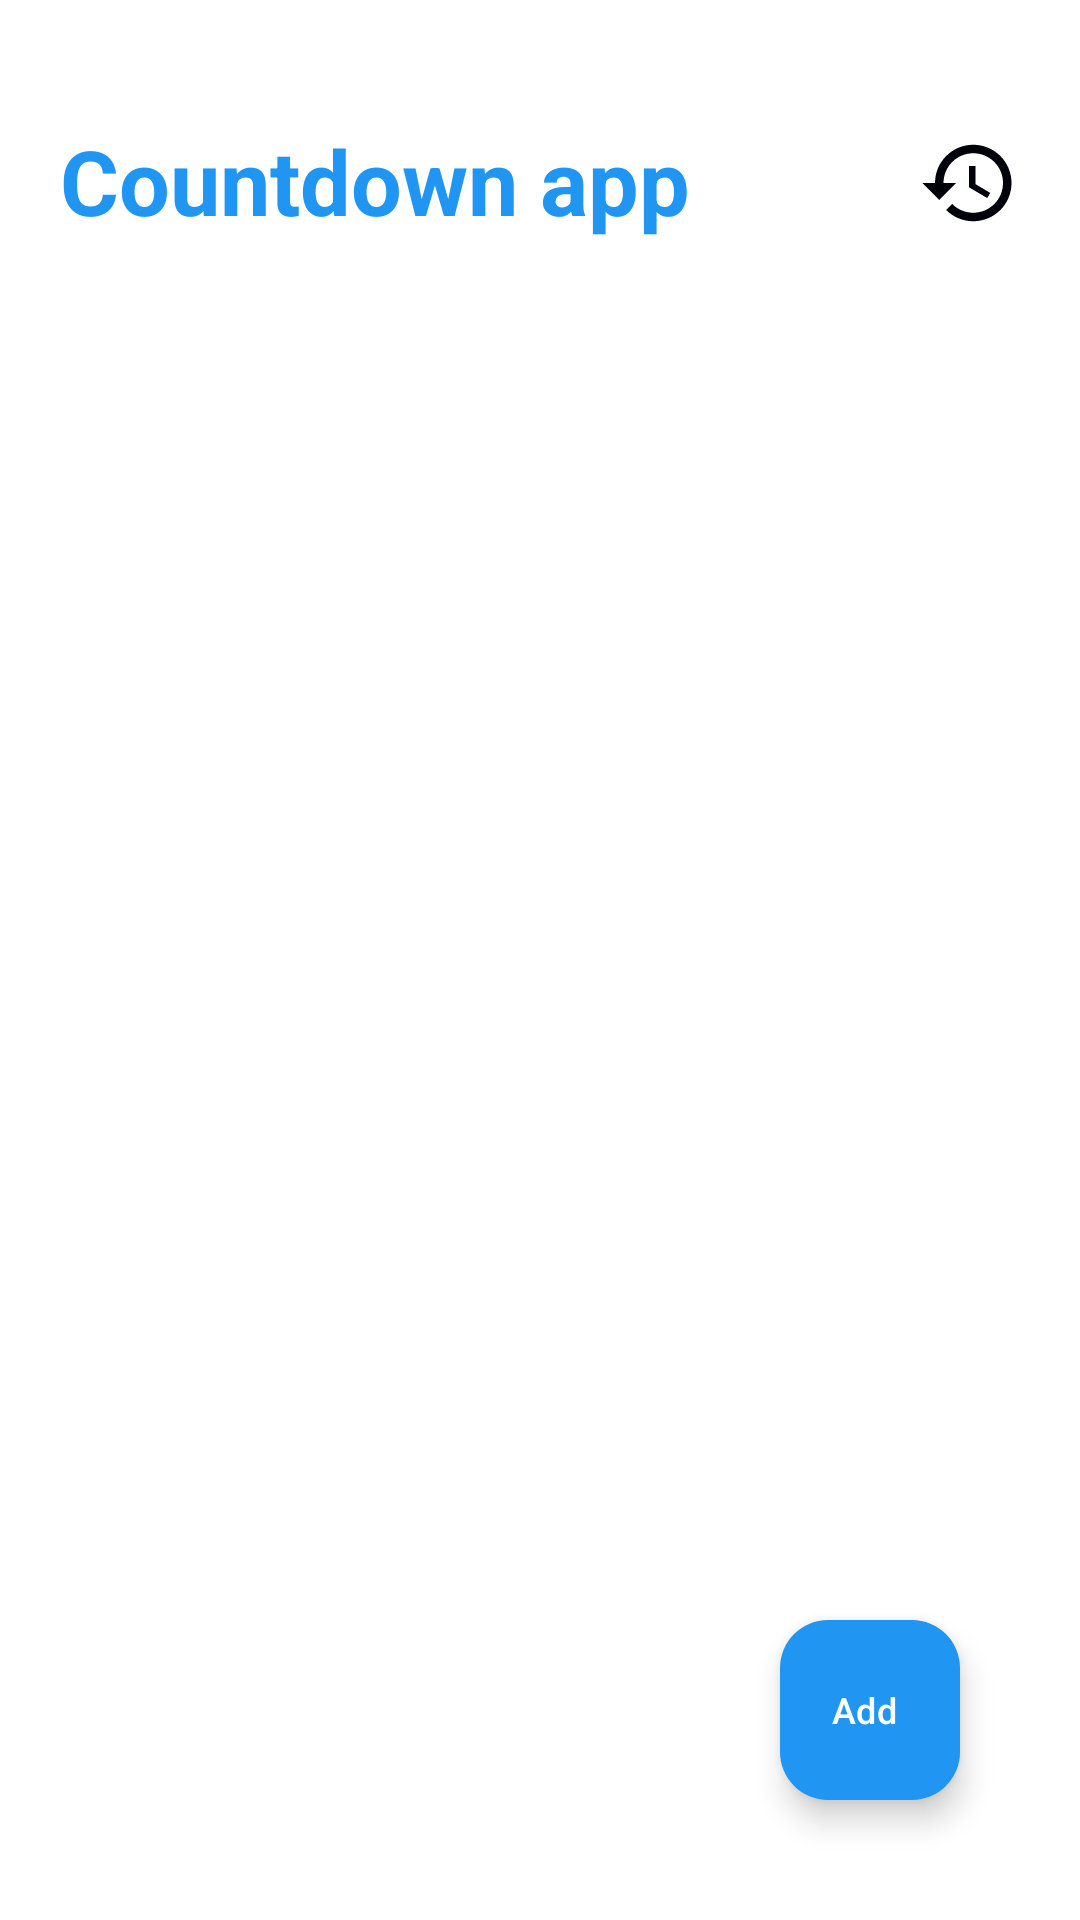

Screen size 1080×1920. Icon name, then its center in pixels as (x,y):
past: (967,183)
